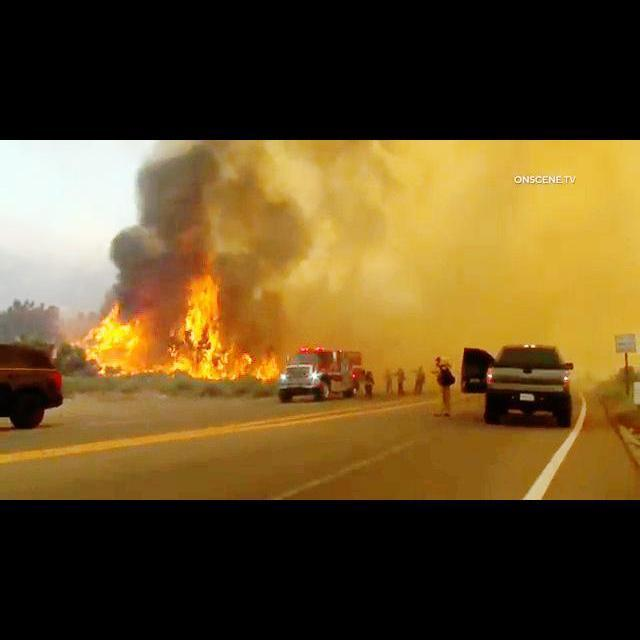Fire: (178, 260, 230, 380), (74, 314, 142, 381), (250, 344, 286, 384)
Smoke: (128, 144, 640, 278), (232, 281, 640, 341)
